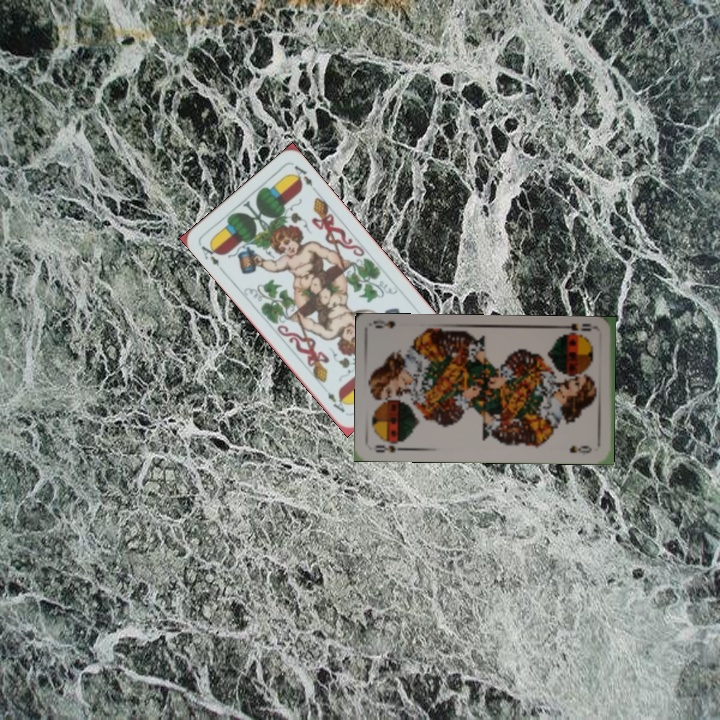EA: (196, 239, 223, 269)
SO: (559, 319, 599, 339), (371, 441, 409, 455)
